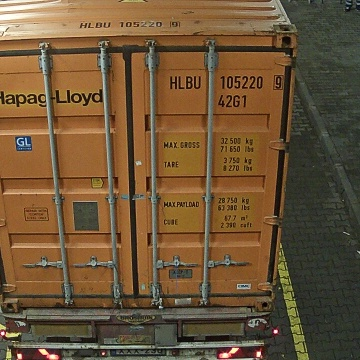serial_id: (170, 75, 282, 89)
